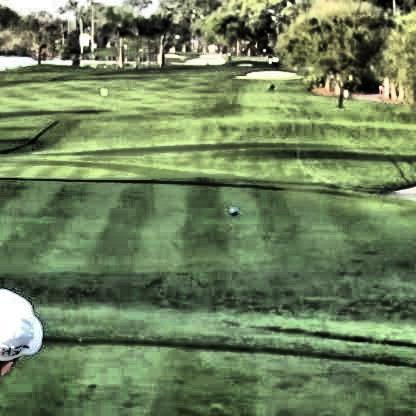golfball: (98, 86, 105, 94)
